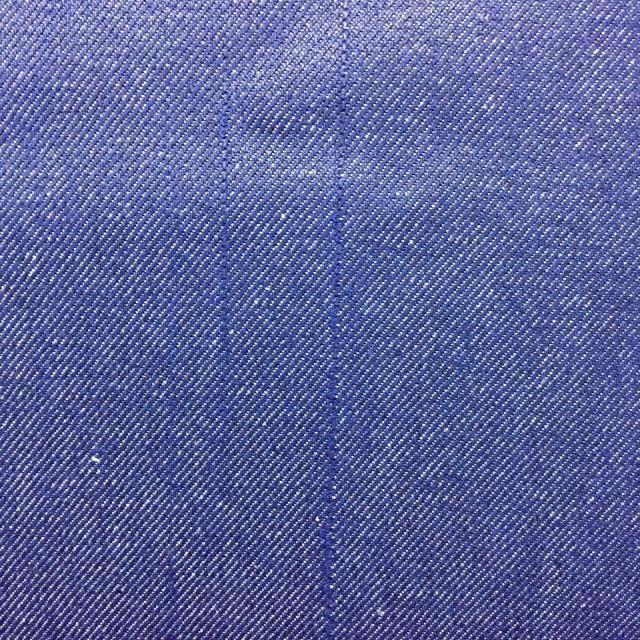Line: (316, 0, 350, 640), (157, 258, 182, 640), (217, 85, 230, 396)
